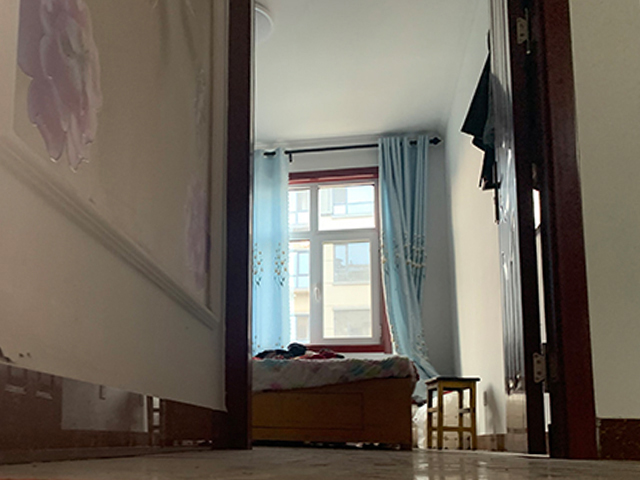bed: (251, 355, 419, 451)
curtain: (375, 128, 437, 376), (251, 147, 294, 349)
stool: (425, 375, 481, 451)
